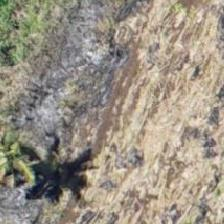coconut_tree: (0, 124, 66, 214)
